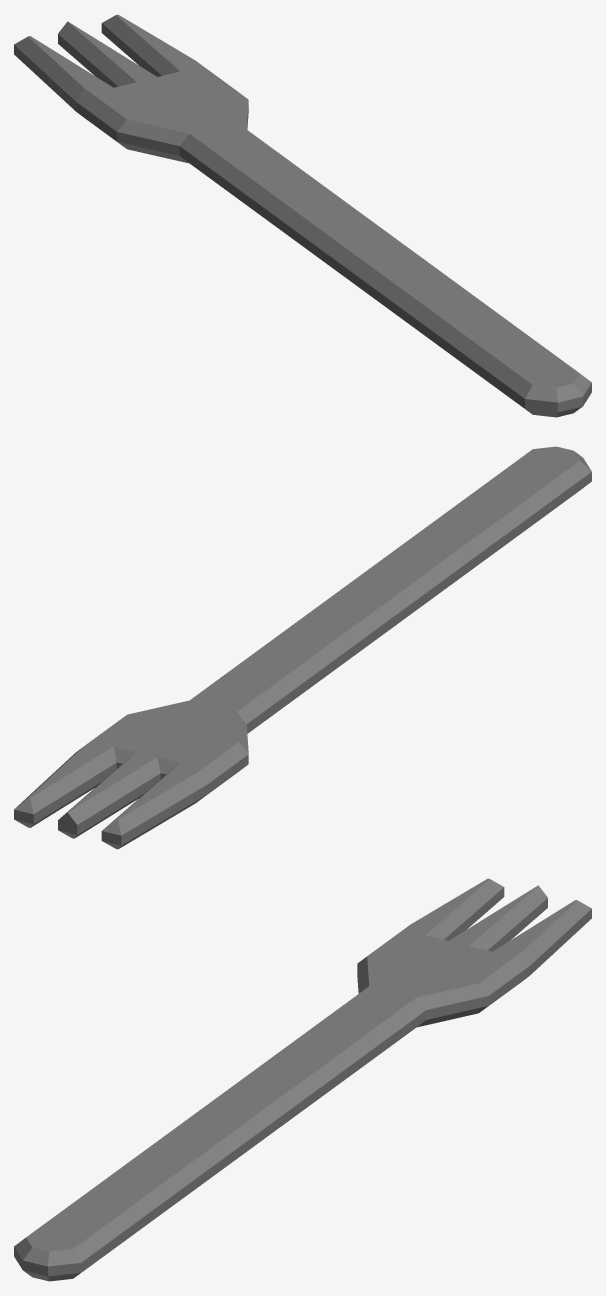
The model's file is Fork.fbx.
The picture shows the model from 3 angles, top to bottom: view 1: azimuth 30°, elevation 25°; view 2: azimuth 150°, elevation 25°; view 3: azimuth 330°, elevation 25°; orthographic projection.
Visible parts, largest first — view 1: Fork; view 2: Fork; view 3: Fork.
Boxes of the visible parts, box(x1,y1,x2,y2) form: Fork: box(14, 14, 591, 417); Fork: box(14, 446, 591, 849); Fork: box(14, 878, 591, 1281).
Size of the model in its own units: 0.0392 by 0.00849 by 0.2593.
Materials: 1 (1 with a texture image).
